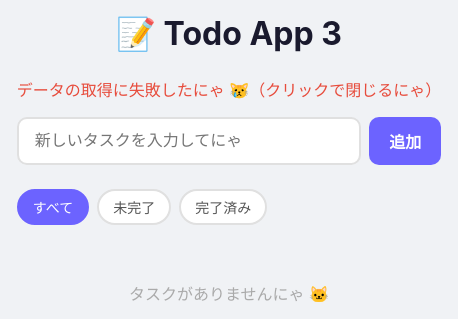
Test: TodoApp › エラー表示 › エラーメッセージをクリックすると非表示になる
Click the text "データの取得に失敗したにゃ 😿（クリックで閉じるにゃ）".
click(229, 89)  # box [17,77,441,101]
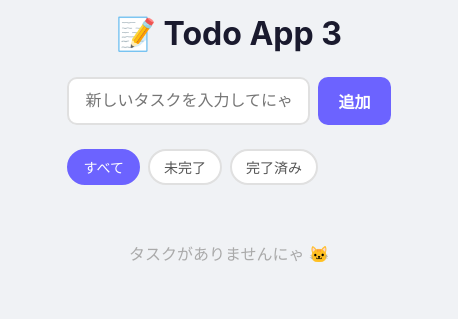
Now the text "データの取得に失敗したにゃ" is gone
